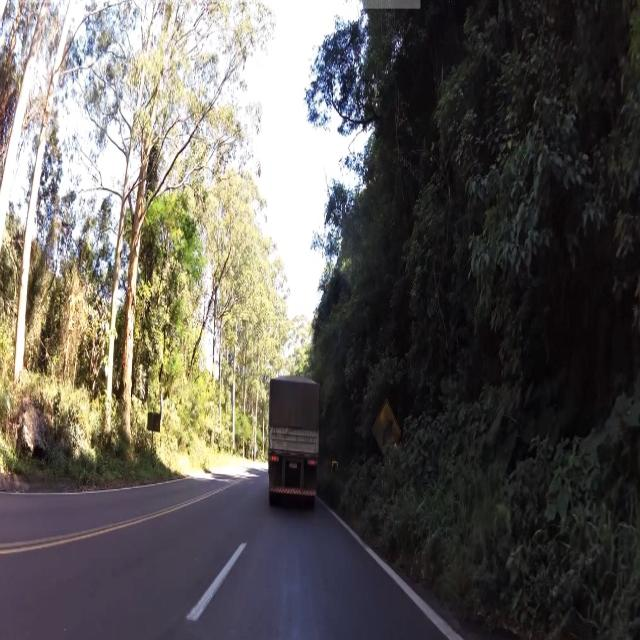A-2b: (374, 393, 400, 468)
